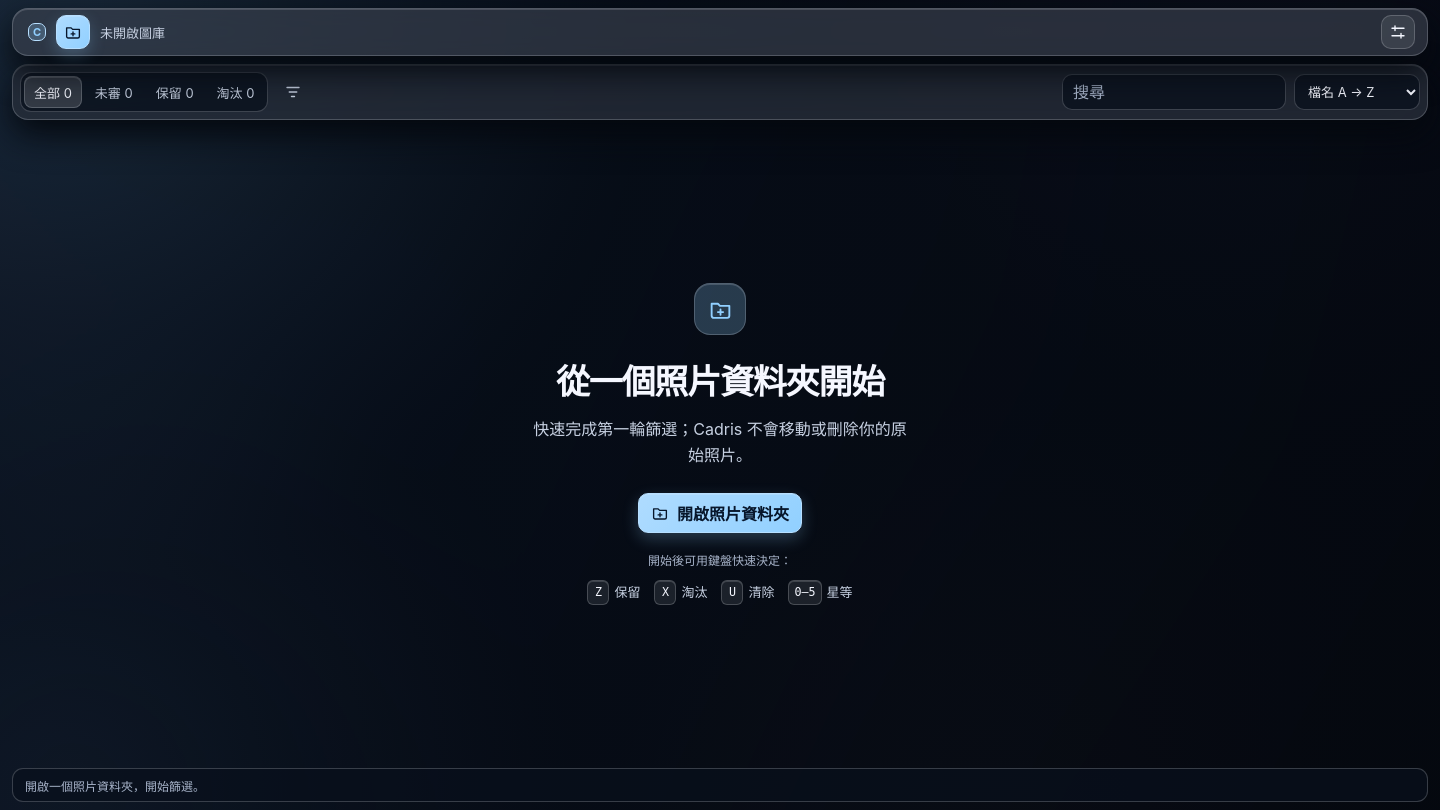
Test: Cadris library workflow › shows an explicit refresh affordance for external library changes
The width and height of the screenshot is (1440, 810).
Click the button "開啟照片資料夾" at (720, 513), box [638,493,802,533]
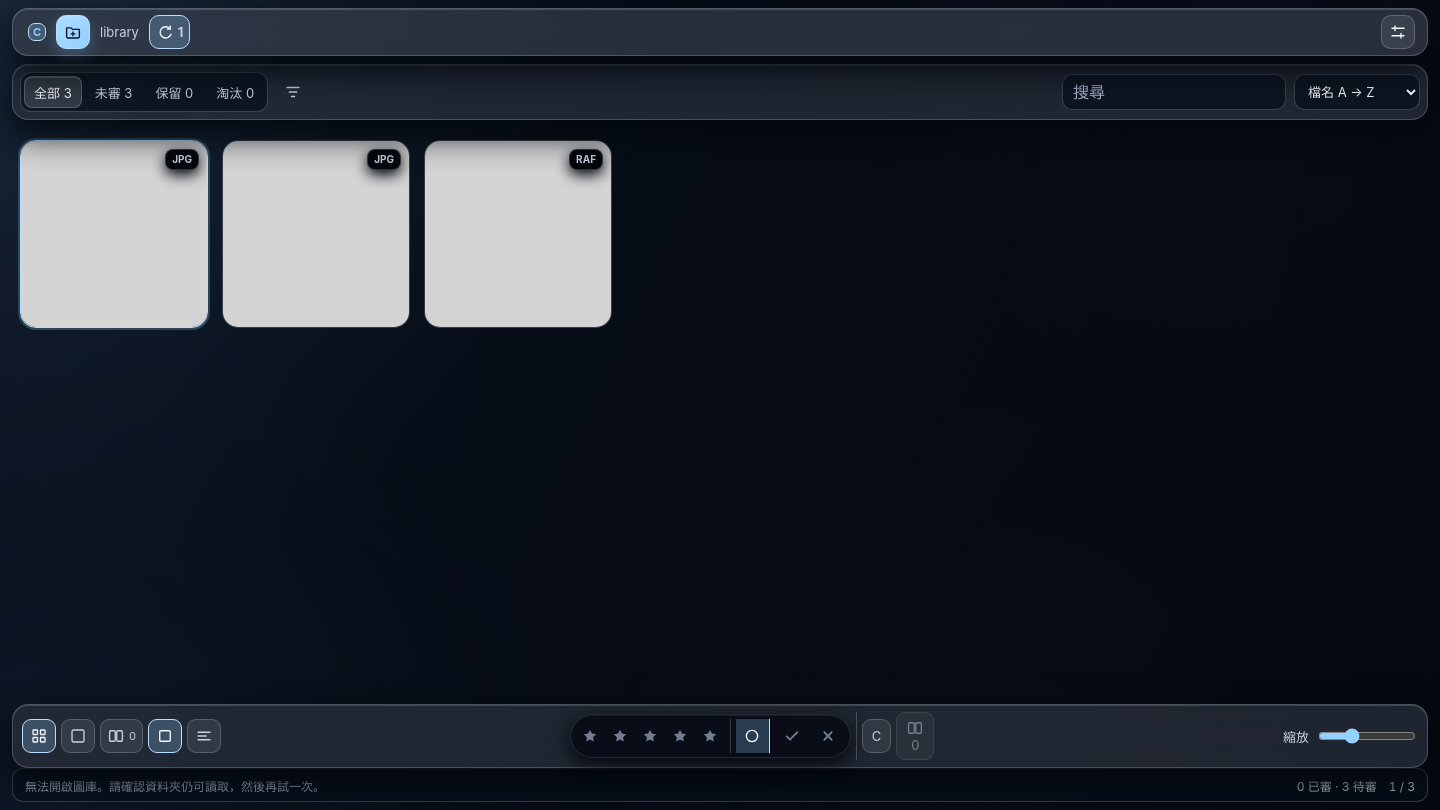
Now the button named "1 項外部更新，重新整理" is shown, box [149,15,190,49]
